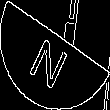N_NE: (31, 23, 79, 87)
